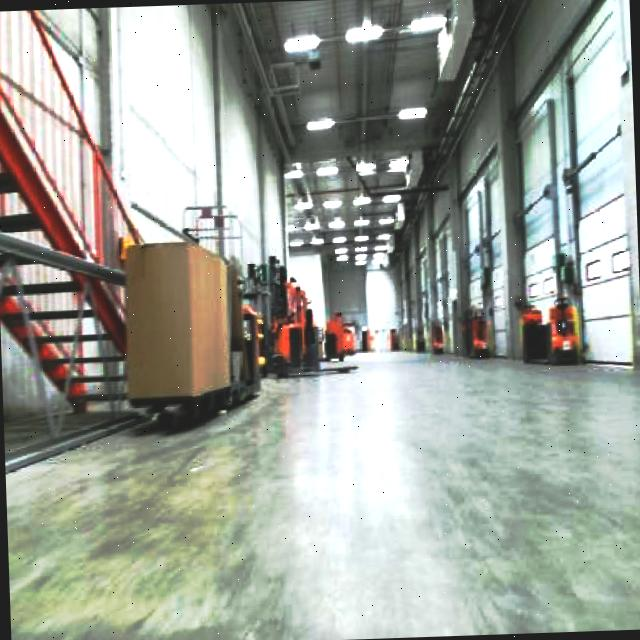ground: (1, 337, 640, 640)
pallet: (0, 7, 137, 428), (115, 233, 251, 430)
